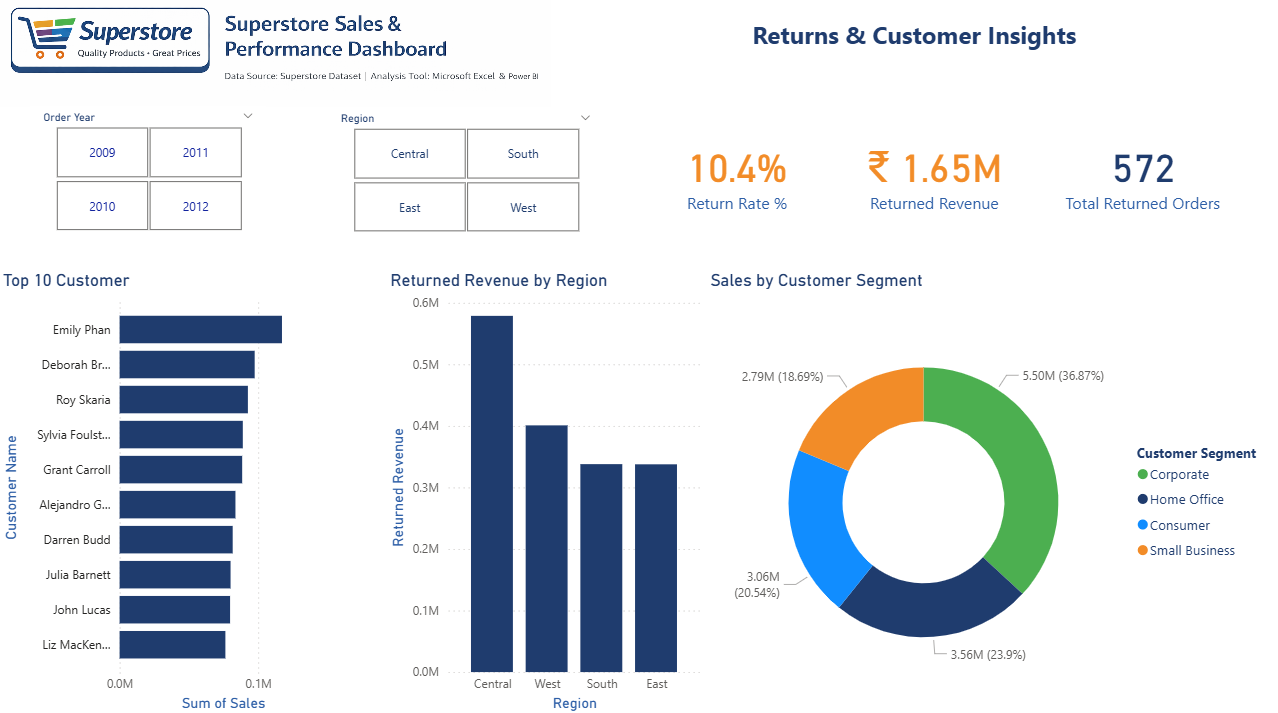

This screenshot's page, from the dashboard's own definition file:
{"tool":"powerbi","page":{"name":"Returns & Customer Insights","canvas":[1280,720],"ordinal":1},"visuals":[{"type":"textbox","box":[552.7,17.1,727.6,92.9],"z":0},{"type":"image","box":[0,0,552.9,110],"z":1},{"type":"PBI_CV_7B952816_A48F_49B4_9E13_15E3BB2C0337","fields":{"Values":["Orders.Return Rate %"]},"box":[656.2,123.8,166.2,118.8],"z":2},{"type":"PBI_CV_7B952816_A48F_49B4_9E13_15E3BB2C0337","fields":{"Values":["Orders.Returned Revenue"]},"box":[854.8,123.5,163.9,118.6],"z":3},{"type":"PBI_CV_7B952816_A48F_49B4_9E13_15E3BB2C0337","fields":{"Values":["Orders.Total Returned Orders"]},"box":[1060,123.8,170,118.8],"z":4},{"type":"barChart","title":"Top 10 Customer","fields":{"Category":["Orders.Customer Name"],"Y":["Sum(Orders.Sales)"]},"box":[0,273.8,348.8,446.2],"z":5},{"type":"columnChart","fields":{"Category":["Orders.Region"],"Y":["Orders.Returned Revenue"]},"box":[387.6,273.9,320.4,446.3],"z":6},{"type":"donutChart","title":"Sales by Customer Segment","fields":{"Y":["Sum(Orders.Sales)"],"Category":["Orders.Customer Segment"]},"box":[708,273.9,572.3,446.3],"z":7},{"type":"slicer","fields":{"Values":["Orders.Order Year"]},"box":[32.5,110,235,131.2],"z":8},{"type":"slicer","fields":{"Values":["Orders.Region"]},"box":[330,111.2,275,131.2],"z":9}]}

Visuals, with their boxes in screenshot pixels (x1, y1, x2, y2), scaled from the page's 1280x720 canvas onto the 1278x713 screenshot:
textbox: (left=552, top=17, right=1277, bottom=109)
image: (left=0, top=0, right=552, bottom=109)
PBI_CV_7B952816_A48F_49B4_9E13_15E3BB2C0337 - Orders.Return Rate %: (left=655, top=123, right=821, bottom=240)
PBI_CV_7B952816_A48F_49B4_9E13_15E3BB2C0337 - Orders.Returned Revenue: (left=853, top=122, right=1017, bottom=240)
PBI_CV_7B952816_A48F_49B4_9E13_15E3BB2C0337 - Orders.Total Returned Orders: (left=1058, top=123, right=1228, bottom=240)
"Top 10 Customer" barChart: (left=0, top=271, right=348, bottom=712)
columnChart - Orders.Region x Orders.Returned Revenue: (left=387, top=271, right=707, bottom=712)
"Sales by Customer Segment" donutChart: (left=707, top=271, right=1277, bottom=712)
slicer - Orders.Order Year: (left=32, top=109, right=267, bottom=239)
slicer - Orders.Region: (left=329, top=110, right=604, bottom=240)
